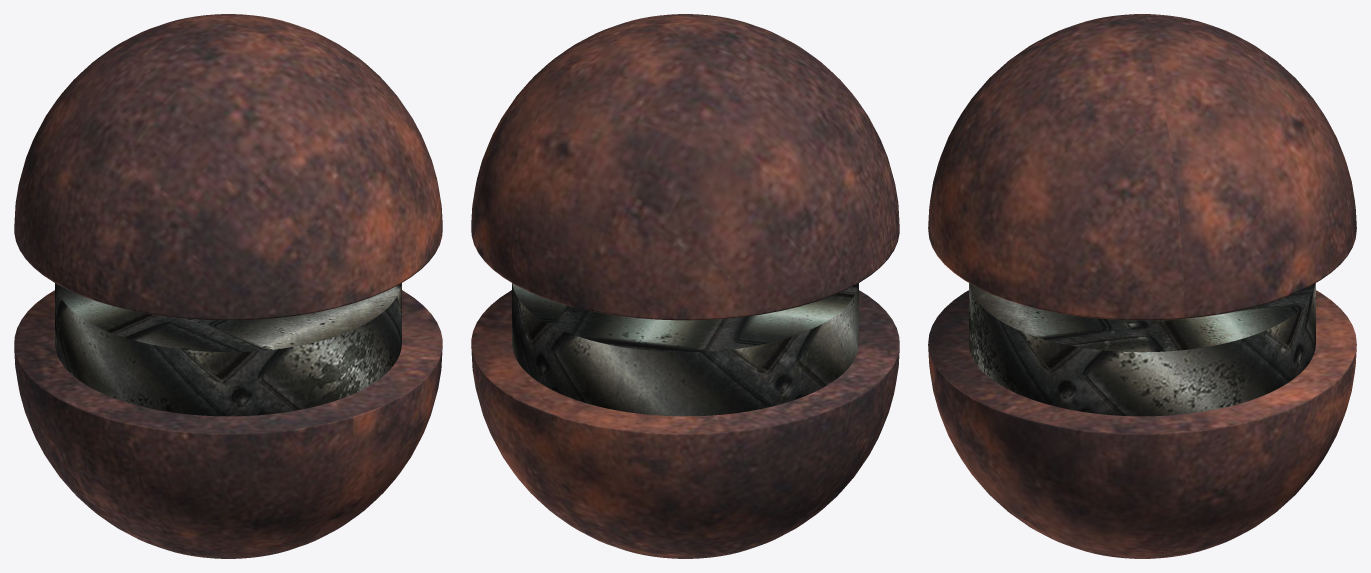
File: droid_anim_000024.obj
3 renders of one model, left to right at view 1: azimuth 30°, elevation 25°; view 2: azimuth 150°, elevation 25°; view 3: azimuth 270°, elevation 25°, orthographic.
Visible parts, largest first — view 1: Sphere.004, Sphere.005, Cylinder.002; view 2: Sphere.004, Sphere.005, Cylinder.002; view 3: Sphere.004, Sphere.005, Cylinder.002.
Boxes of the visible parts, bbox=[...] form: Sphere.004: bbox=[14, 14, 442, 320]; Sphere.005: bbox=[14, 290, 442, 558]; Cylinder.002: bbox=[55, 283, 401, 416]; Sphere.004: bbox=[471, 14, 899, 320]; Sphere.005: bbox=[471, 290, 899, 558]; Cylinder.002: bbox=[512, 283, 858, 416]; Sphere.004: bbox=[928, 14, 1356, 320]; Sphere.005: bbox=[928, 290, 1356, 558]; Cylinder.002: bbox=[969, 283, 1315, 416].
Bounding box in the file's own units: 2 × 2.6 × 2.
Materials: 3 (3 with a texture image).
